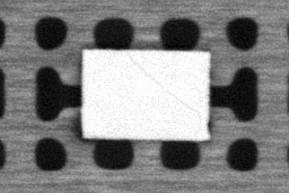DIE_CRACK: (128, 56, 200, 117)
